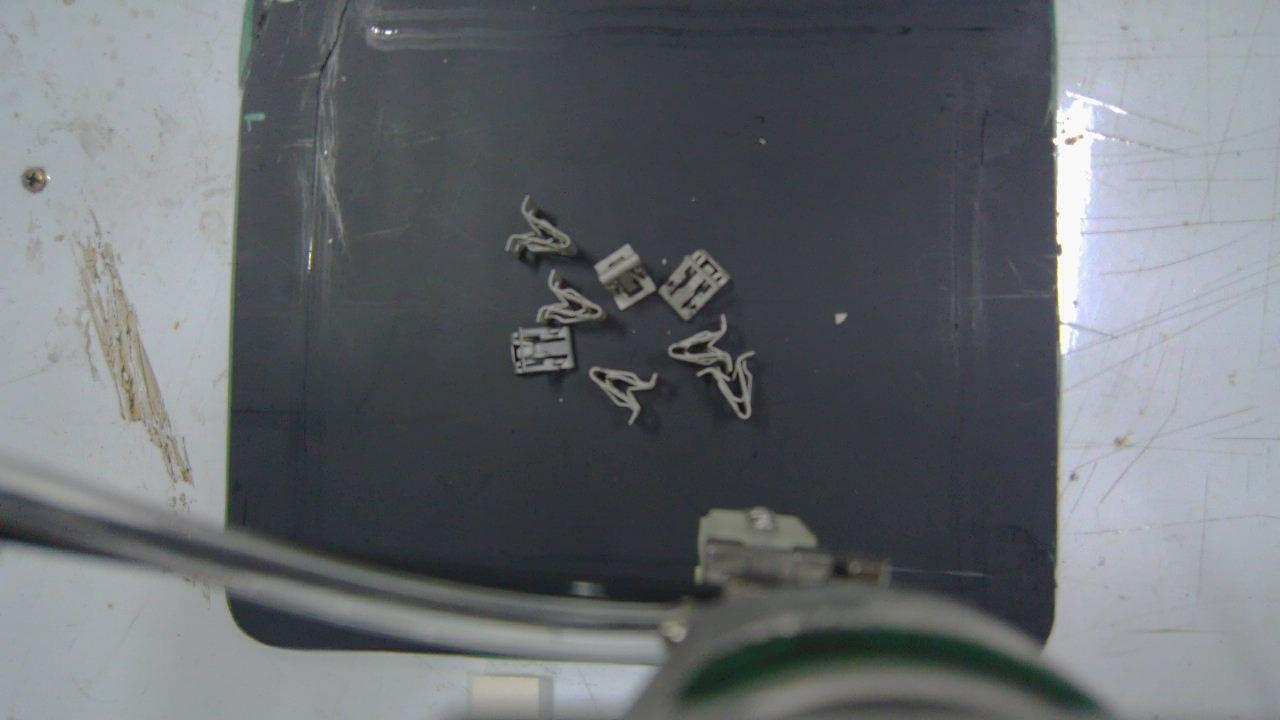ng: (660, 249, 731, 321), (506, 195, 579, 254), (590, 366, 659, 426), (697, 347, 752, 418), (667, 314, 732, 373), (537, 267, 603, 322), (510, 328, 575, 374)
pass: (595, 245, 657, 310)
